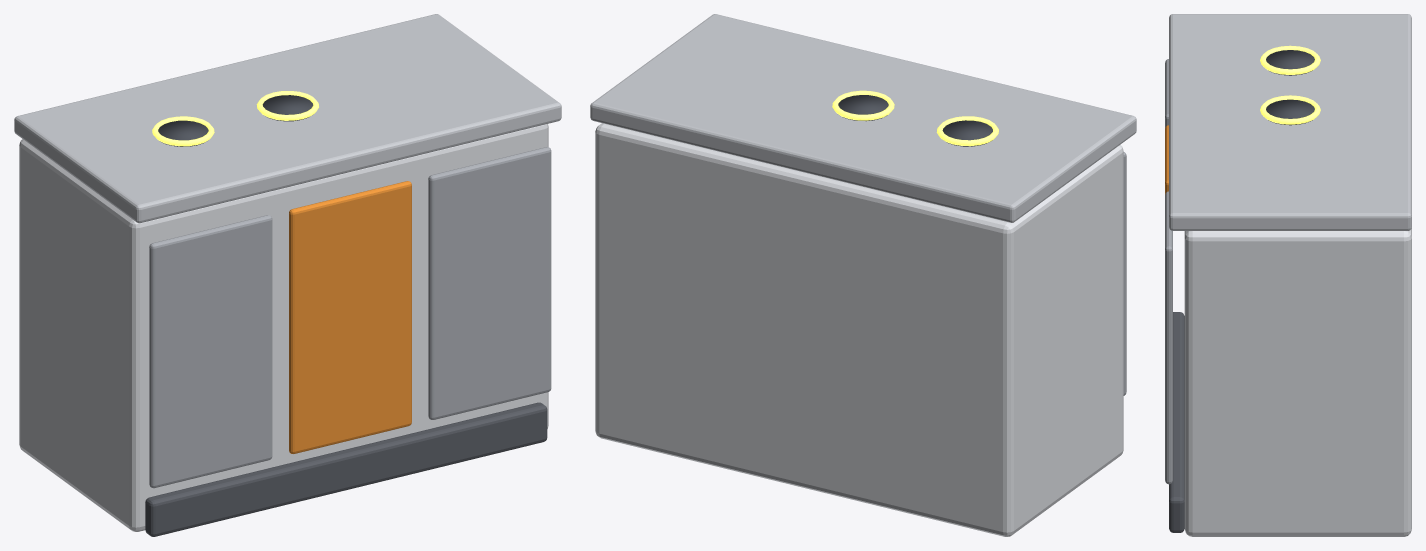
The model's file is kitchen_counter_galley_run.glb.
3 renders of one model, left to right at view 1: azimuth 30°, elevation 25°; view 2: azimuth 150°, elevation 25°; view 3: azimuth 270°, elevation 25°, orthographic. The views are drawn at different scales.
Parts seen in each view (by area): view 1: GD_kitchen_counter_galley_run__m0, GD_kitchen_counter_galley_run__m3, GD_kitchen_counter_galley_run__m2, GD_kitchen_counter_galley_run__m4, GD_kitchen_counter_galley_run__m1, GD_kitchen_counter_galley_run__m5, GD_kitchen_counter_galley_run__m6; view 2: GD_kitchen_counter_galley_run__m0, GD_kitchen_counter_galley_run__m2, GD_kitchen_counter_galley_run__m5, GD_kitchen_counter_galley_run__m6, GD_kitchen_counter_galley_run__m3; view 3: GD_kitchen_counter_galley_run__m0, GD_kitchen_counter_galley_run__m2, GD_kitchen_counter_galley_run__m1, GD_kitchen_counter_galley_run__m3, GD_kitchen_counter_galley_run__m5, GD_kitchen_counter_galley_run__m6.
Part boxes in pixels (x1,y1,x2,y2): GD_kitchen_counter_galley_run__m0: (19,124,548,531); GD_kitchen_counter_galley_run__m3: (149,147,551,488); GD_kitchen_counter_galley_run__m2: (14,14,561,223); GD_kitchen_counter_galley_run__m4: (289,181,411,453); GD_kitchen_counter_galley_run__m1: (145,402,547,536); GD_kitchen_counter_galley_run__m5: (158,95,313,146); GD_kitchen_counter_galley_run__m6: (152,91,318,146); GD_kitchen_counter_galley_run__m0: (595,123,1123,536); GD_kitchen_counter_galley_run__m2: (590,14,1136,222); GD_kitchen_counter_galley_run__m5: (838,95,992,146); GD_kitchen_counter_galley_run__m6: (832,90,998,146); GD_kitchen_counter_galley_run__m3: (1123,152,1126,395); GD_kitchen_counter_galley_run__m0: (1184,227,1411,536); GD_kitchen_counter_galley_run__m2: (1169,14,1411,230); GD_kitchen_counter_galley_run__m1: (1169,312,1184,532); GD_kitchen_counter_galley_run__m3: (1165,59,1172,484); GD_kitchen_counter_galley_run__m5: (1266,50,1314,125); GD_kitchen_counter_galley_run__m6: (1260,45,1320,124).
Bounding box in the file's own units: 1.22 × 0.9376 × 0.63.
